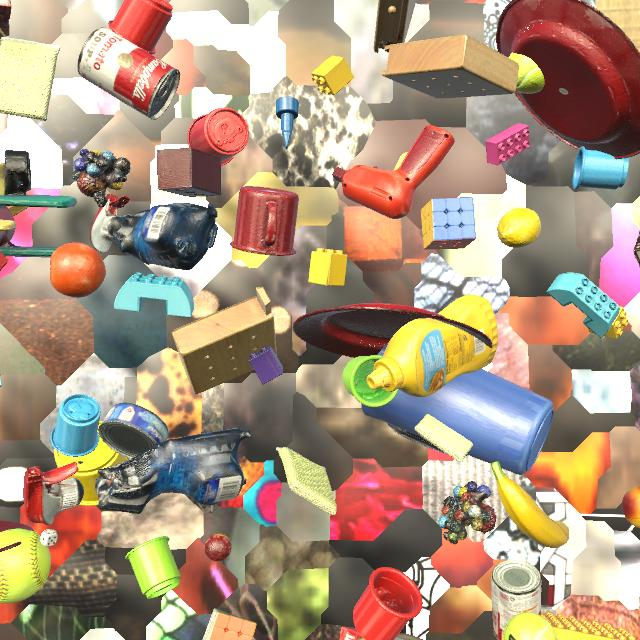ycb_003_cracker_box: (339, 627, 424, 640), (0, 252, 9, 271)
ycb_005_tomato_soup_can: (77, 27, 180, 120), (491, 559, 541, 640)
ycb_006_mustard_bottle: (367, 294, 498, 397)
ycb_007_tuna_fish_can: (98, 403, 169, 459)
ycb_008_pudding_box: (633, 231, 640, 268)
ycb_009_gelatin_box: (0, 0, 11, 36)
ycb_011_banana: (490, 461, 569, 548)
ycb_014_lemon: (497, 208, 541, 248)
ycb_015_peach: (622, 485, 640, 528)
ycb_017_orange: (50, 243, 106, 298)
